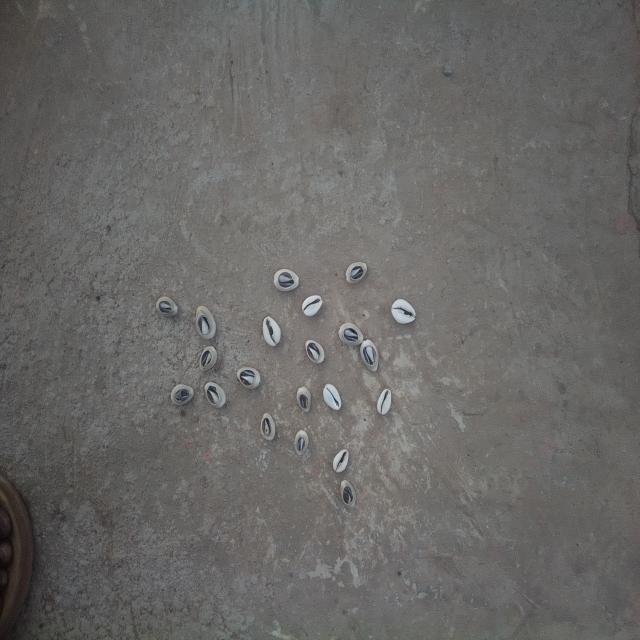facedown: (194, 306, 216, 341), (274, 266, 300, 293), (361, 340, 381, 374), (337, 321, 364, 346), (169, 383, 196, 408), (304, 336, 326, 366), (236, 365, 262, 390), (204, 382, 227, 408), (345, 260, 368, 285), (260, 411, 276, 443), (156, 295, 178, 318), (295, 386, 313, 414), (198, 346, 218, 371), (339, 480, 356, 508), (295, 428, 310, 457)
faceup: (391, 296, 416, 325), (261, 314, 282, 348), (321, 384, 344, 412), (300, 294, 324, 317), (376, 386, 394, 416), (332, 446, 350, 476)
